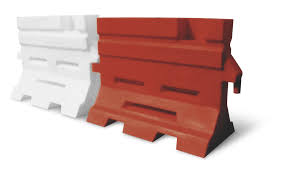barrier: (91, 16, 238, 155), (12, 12, 104, 124)
